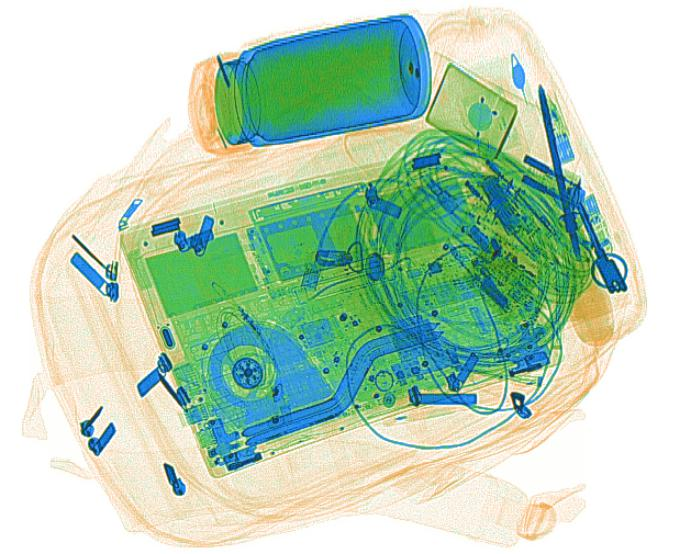USBFlashDisk: (535, 89, 575, 166), (576, 191, 616, 265)
battery: (480, 170, 524, 238)
